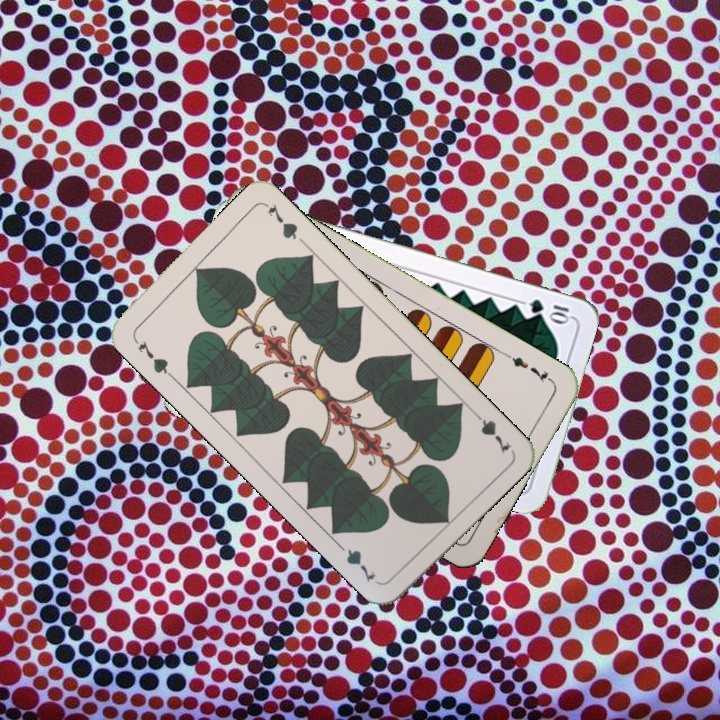E7: (502, 349, 556, 386)
G10: (525, 295, 574, 325)
G7: (467, 406, 514, 457), (134, 336, 176, 380)
